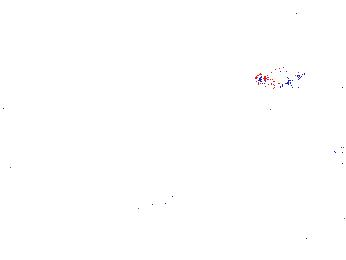X-ray fish: (256, 1, 318, 32)
glassfish: (212, 114, 286, 176), (131, 192, 174, 228)
red belly glassfish: (254, 67, 300, 89)
